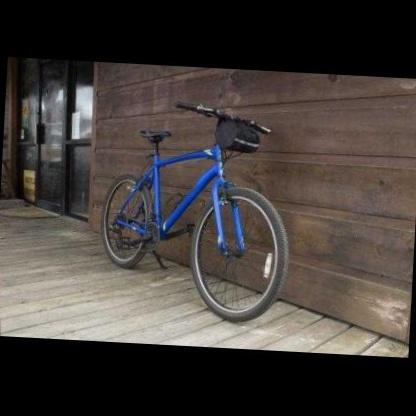Bicycle: (93, 88, 298, 333)
